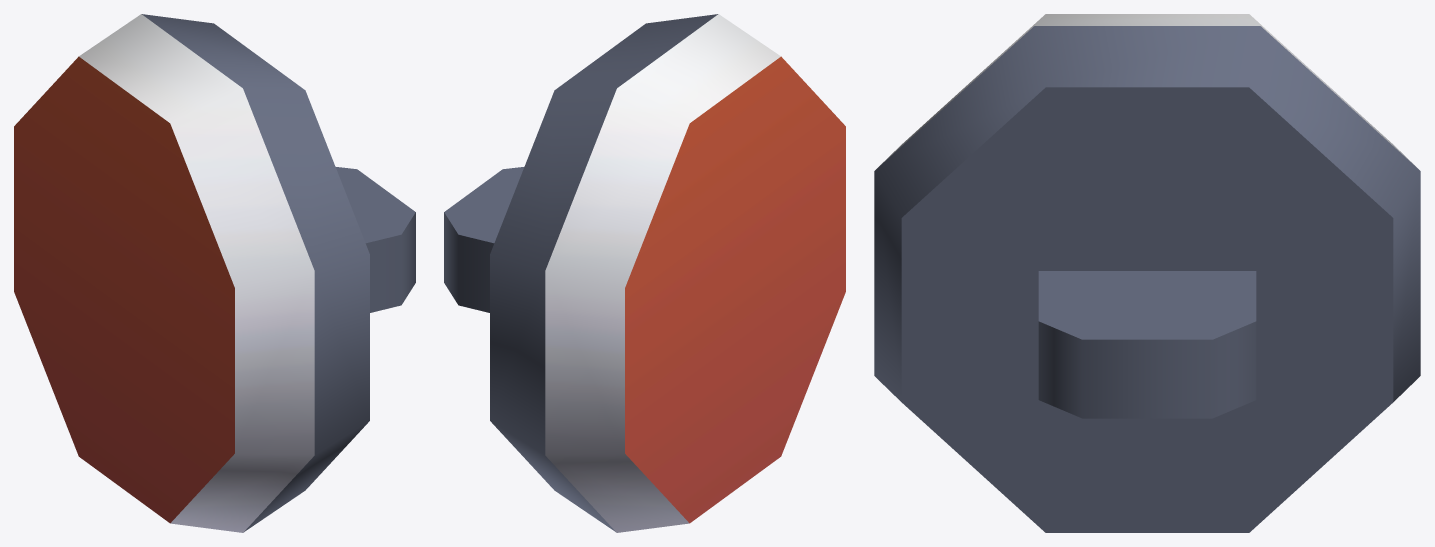
The model's file is road-sign-object-stop.glb.
3 views of the same model, side by side, from view 1: azimuth 30°, elevation 25°; view 2: azimuth 150°, elevation 25°; view 3: azimuth 270°, elevation 25° (orthographic). The views are drawn at different scales.
Visible parts, largest first — view 1: road-sign-object-stop; view 2: road-sign-object-stop; view 3: road-sign-object-stop.
Boxes of the visible parts, x1,y1,x2,y2 form: road-sign-object-stop: [14, 14, 415, 532]; road-sign-object-stop: [444, 14, 845, 532]; road-sign-object-stop: [874, 14, 1420, 532].
Size of the model in its own units: 0.0775 by 0.1256 by 0.1256.
Materials: 1 (1 with a texture image).
